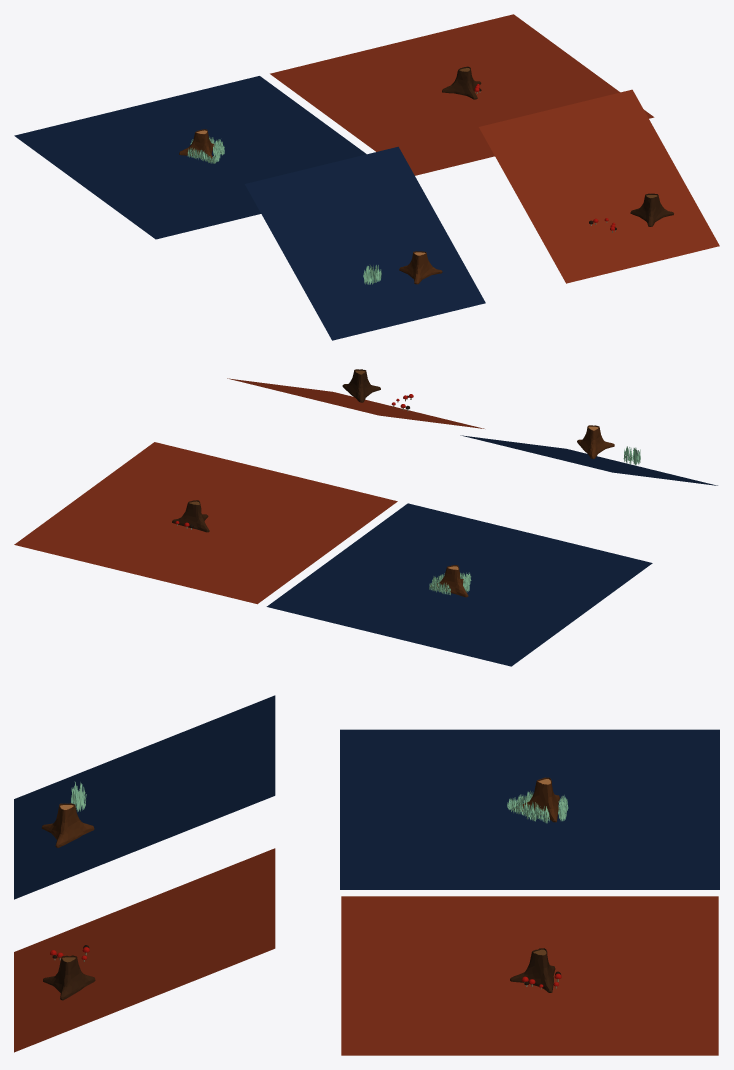
File: trunk.obj
3 views of the same model, one above another, from view 1: azimuth 30°, elevation 25°; view 2: azimuth 150°, elevation 25°; view 3: azimuth 270°, elevation 25° (orthographic). The views are drawn at different scales.
Visible parts, largest first — view 1: background_1.1_Prostokąt, background_2.1_Prostokąt.021, background_2.2_Prostokąt.025, background_1.2_Prostokąt.023, trunk_1.2_Prostokąt.013, trunk_2.2_Prostokąt.012, trunk_2.1_Prostokąt.020, trunk_1.1_Prostokąt.001; view 2: background_1.1_Prostokąt, background_2.1_Prostokąt.021, background_1.2_Prostokąt.023, background_2.2_Prostokąt.025, trunk_2.2_Prostokąt.012, trunk_1.2_Prostokąt.013, trunk_2.1_Prostokąt.020, trunk_1.1_Prostokąt.001; view 3: background_1.1_Prostokąt, background_2.1_Prostokąt.021, background_2.2_Prostokąt.025, background_1.2_Prostokąt.023, trunk_1.2_Prostokąt.013, trunk_2.2_Prostokąt.012, trunk_2.1_Prostokąt.020, grass_1.1_Prostokąt.003, trunk_1.1_Prostokąt.001.
Boxes of the visible parts, bbox=[...] form: background_1.1_Prostokąt: bbox=[14, 76, 366, 239]; background_2.1_Prostokąt.021: bbox=[270, 14, 654, 175]; background_2.2_Prostokąt.025: bbox=[479, 89, 719, 283]; background_1.2_Prostokąt.023: bbox=[245, 146, 485, 340]; trunk_1.2_Prostokąt.013: bbox=[399, 251, 442, 284]; trunk_2.2_Prostokąt.012: bbox=[630, 193, 673, 226]; trunk_2.1_Prostokąt.020: bbox=[442, 66, 481, 99]; trunk_1.1_Prostokąt.001: bbox=[179, 129, 214, 160]; background_1.1_Prostokąt: bbox=[266, 503, 652, 666]; background_2.1_Prostokąt.021: bbox=[14, 442, 397, 604]; background_1.2_Prostokąt.023: bbox=[460, 435, 717, 485]; background_2.2_Prostokąt.025: bbox=[227, 378, 484, 428]; trunk_2.2_Prostokąt.012: bbox=[342, 369, 380, 402]; trunk_1.2_Prostokąt.013: bbox=[577, 425, 614, 458]; trunk_2.1_Prostokąt.020: bbox=[172, 500, 209, 532]; trunk_1.1_Prostokąt.001: bbox=[431, 565, 468, 597]; background_1.1_Prostokąt: bbox=[340, 729, 719, 889]; background_2.1_Prostokąt.021: bbox=[341, 896, 718, 1055]; background_2.2_Prostokąt.025: bbox=[14, 848, 275, 1052]; background_1.2_Prostokąt.023: bbox=[14, 695, 275, 899]; trunk_1.2_Prostokąt.013: bbox=[41, 803, 94, 847]; trunk_2.2_Prostokąt.012: bbox=[43, 955, 95, 1000]; trunk_2.1_Prostokąt.020: bbox=[510, 948, 555, 992]; grass_1.1_Prostokąt.003: bbox=[507, 790, 568, 823]; trunk_1.1_Prostokąt.001: bbox=[514, 777, 559, 822].
Bounding box in the file's own units: 49.08 × 7.76 × 44.89.
13 materials, 2 textured.
